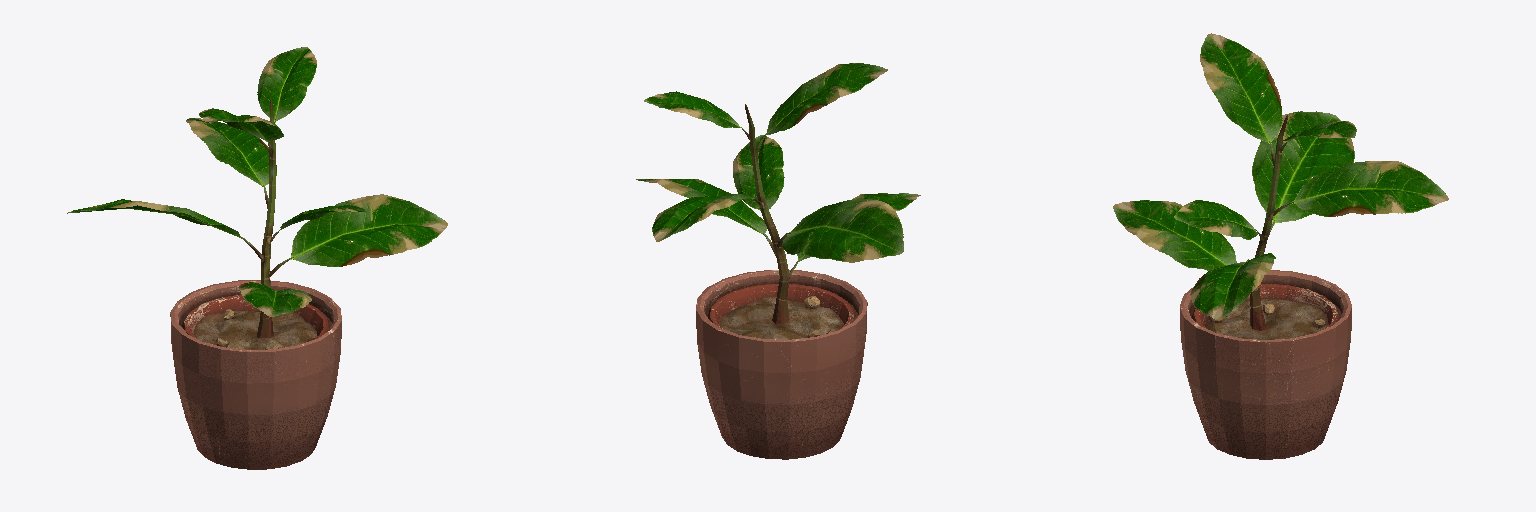
3 renders of one model, left to right at view 1: azimuth 30°, elevation 25°; view 2: azimuth 150°, elevation 25°; view 3: azimuth 270°, elevation 25°, orthographic.
Size of the model in its own units: 0.8565 by 0.9 by 0.7729.
1 materials, 1 textured.